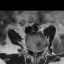CCS_normal: (34, 47, 36, 58)
LFS_stenosis: (39, 47, 41, 54)
LLS_normal: (36, 47, 38, 55)
RFS_stenosis: (30, 46, 32, 53)
RLS_normal: (32, 47, 34, 55)
